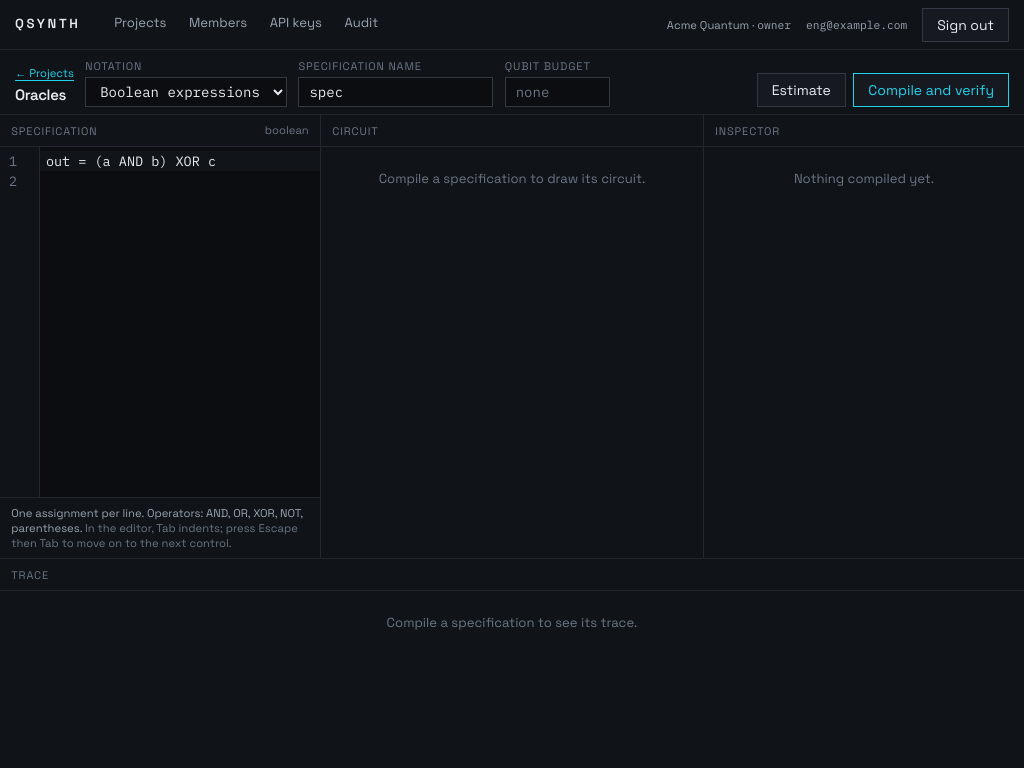
it: the workbench › puts a compiler error on its source line
The width and height of the screenshot is (1024, 768).
Expected: the heading "Oracles" is shown, [15,84,74,107]
Click the button "Compile and verify": (931, 90) [853,73,1009,107]
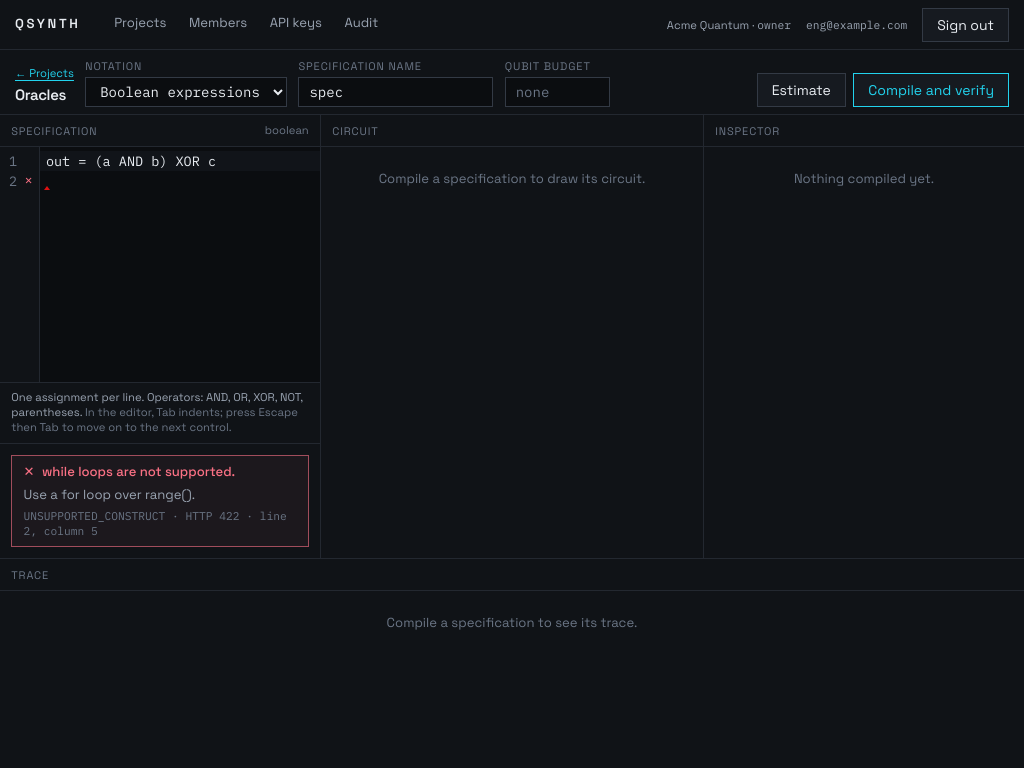
Result: the text "while loops are not supported." is shown at [42,463,235,482]
Result: the text "Use a for loop over range()." is shown at [24,486,195,503]
Result: the text "UNSUPPORTED_CONSTRUCT · HTTP 422 · line 2, column 5" is shown at [24,508,296,538]
